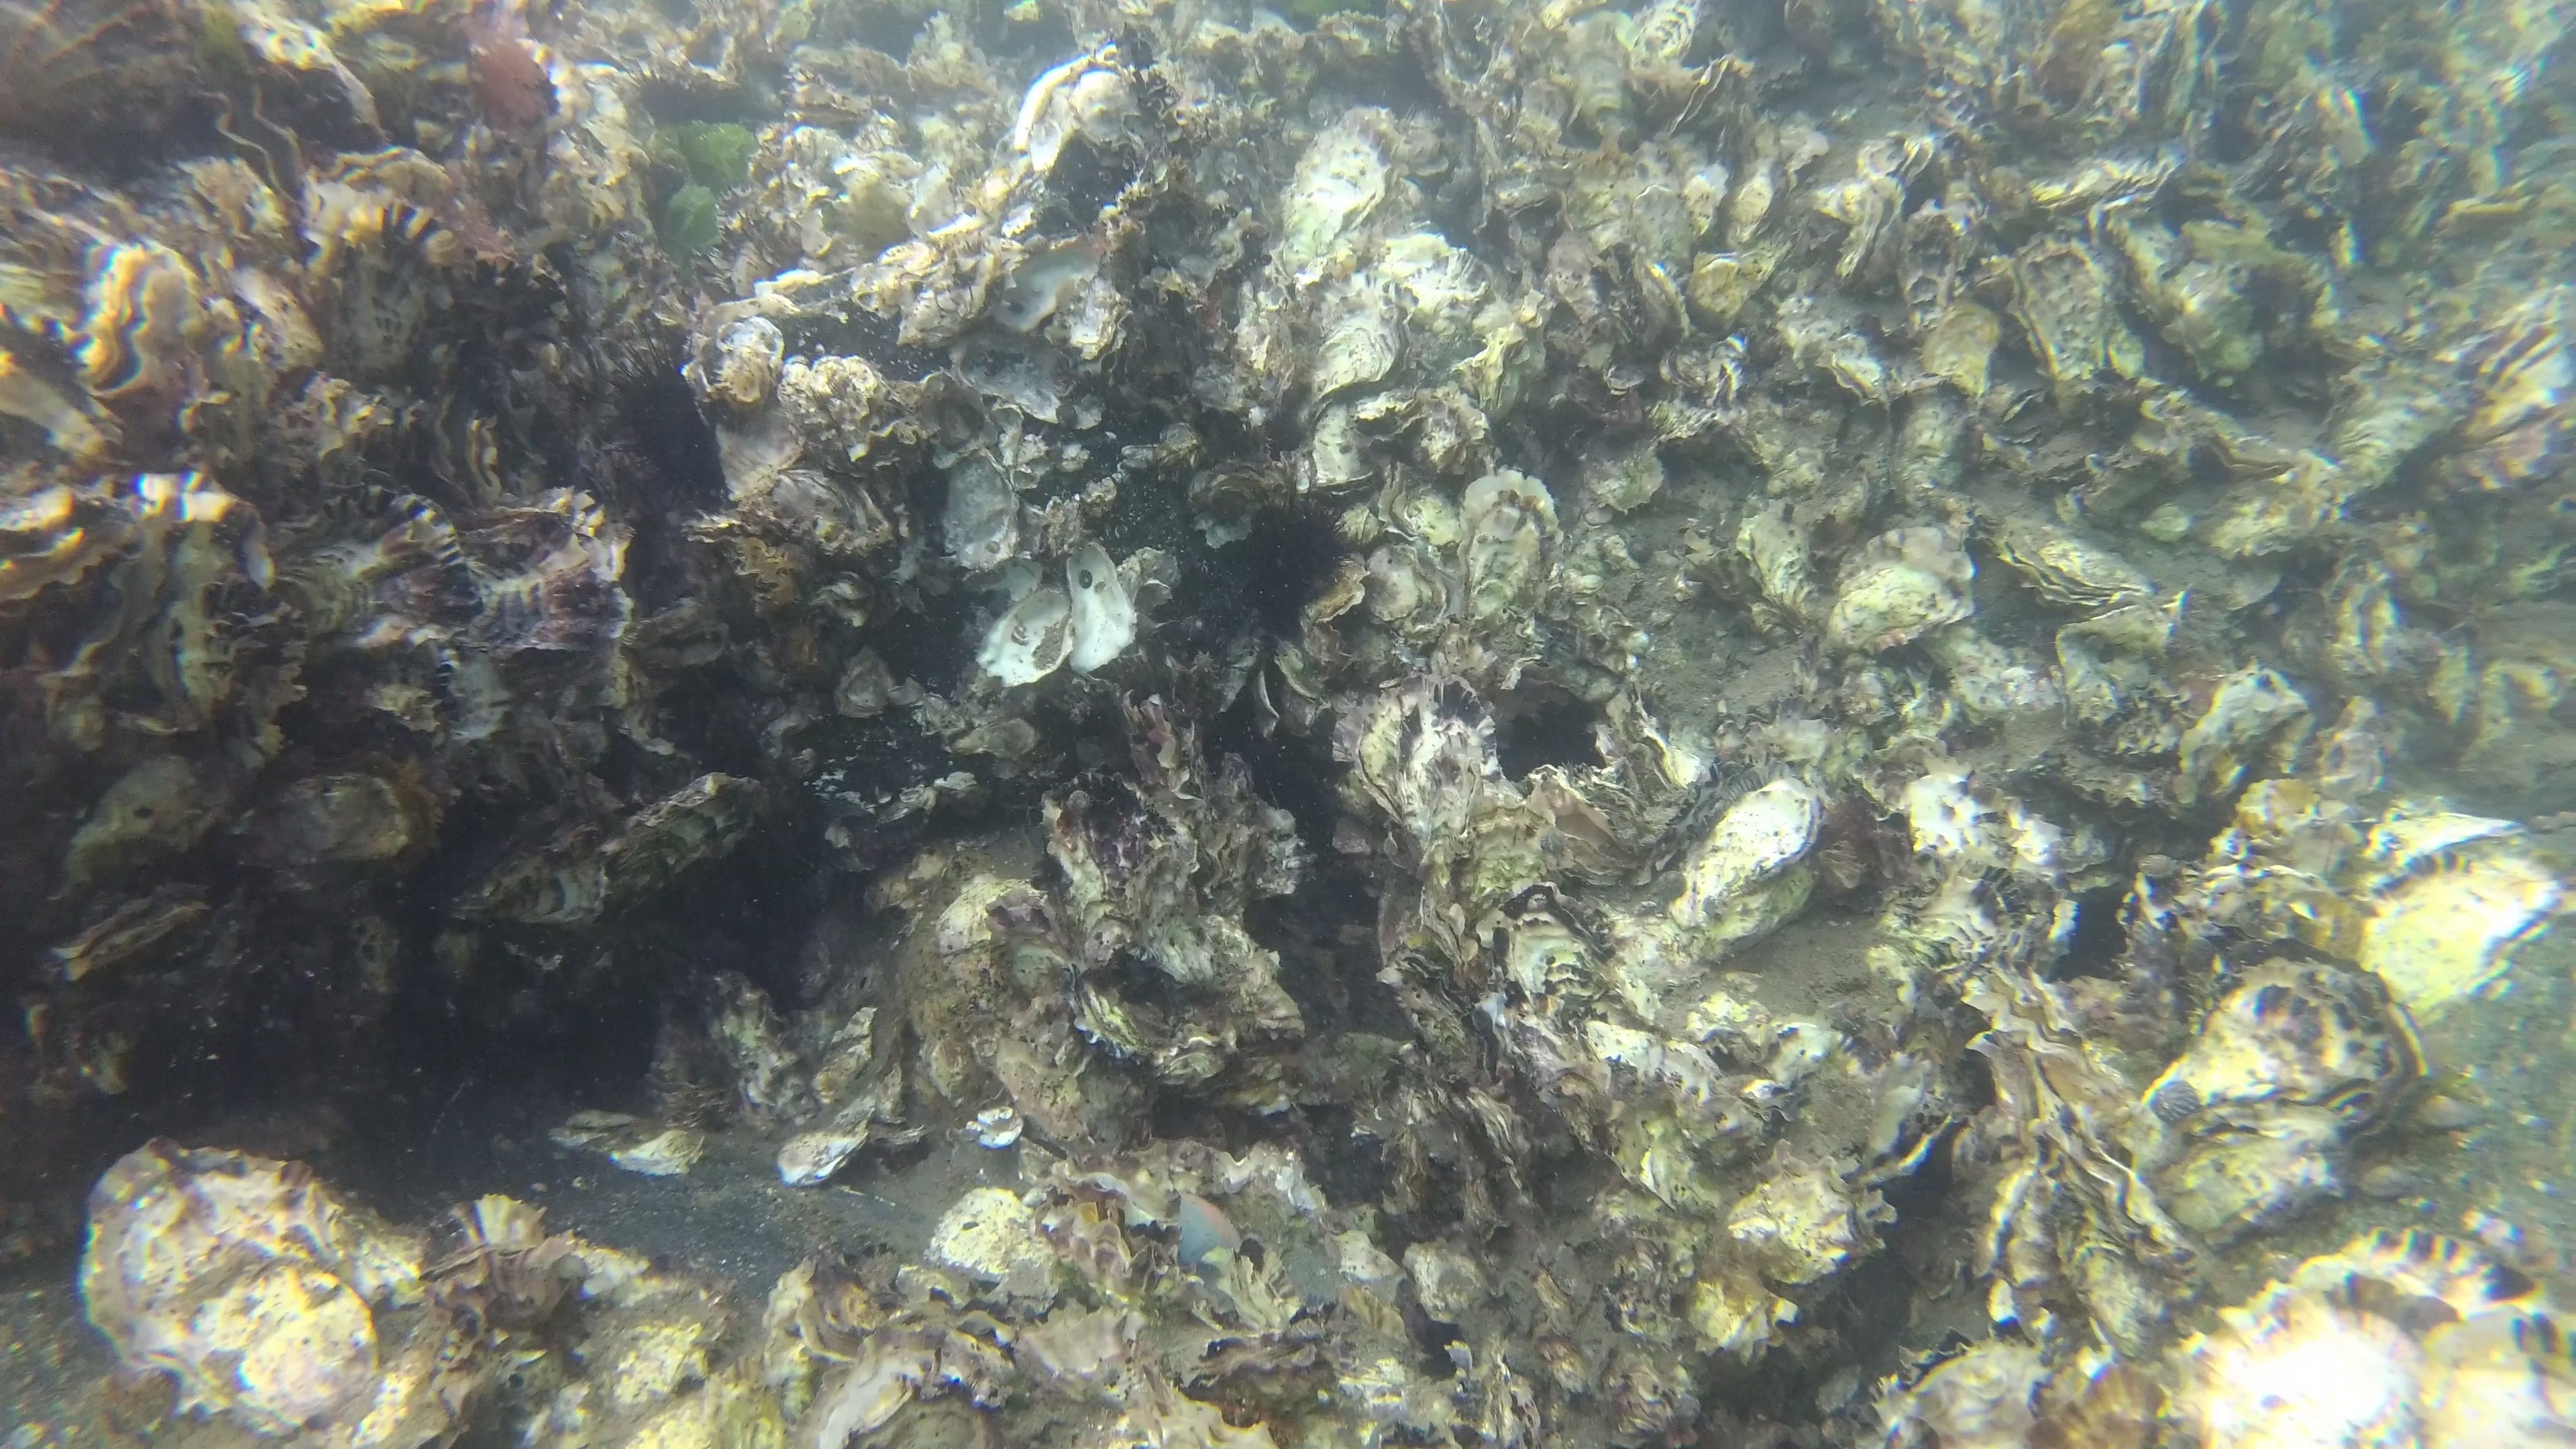echinus: (596, 317, 731, 497), (1249, 478, 1355, 635), (626, 62, 724, 126)
